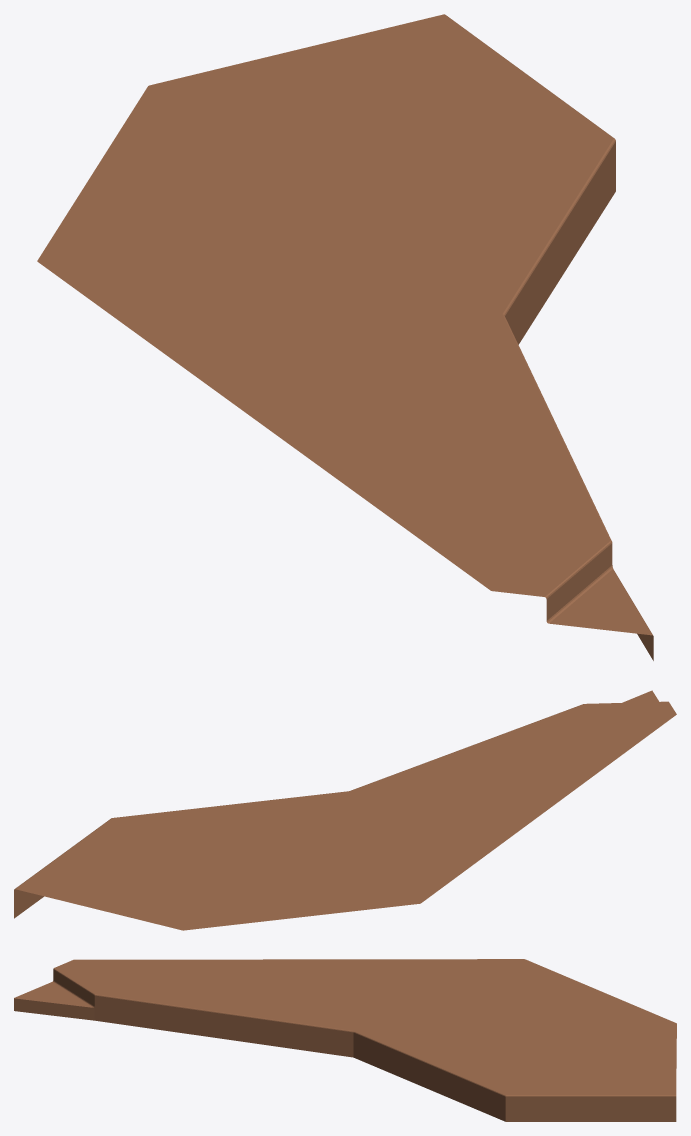
Rendered from Estrade.fbx.
3 renders of one model, top to bottom at view 1: azimuth 30°, elevation 25°; view 2: azimuth 150°, elevation 25°; view 3: azimuth 270°, elevation 25°, orthographic. The views are drawn at different scales.
Visible parts, largest first — view 1: Estrade; view 2: Estrade; view 3: Estrade.
Part boxes in pixels (x1,y1,x2,y2): Estrade: (37, 14, 653, 660); Estrade: (14, 690, 676, 930); Estrade: (14, 959, 676, 1121).
Bounding box in the file's own units: 449 × 40 × 920.
